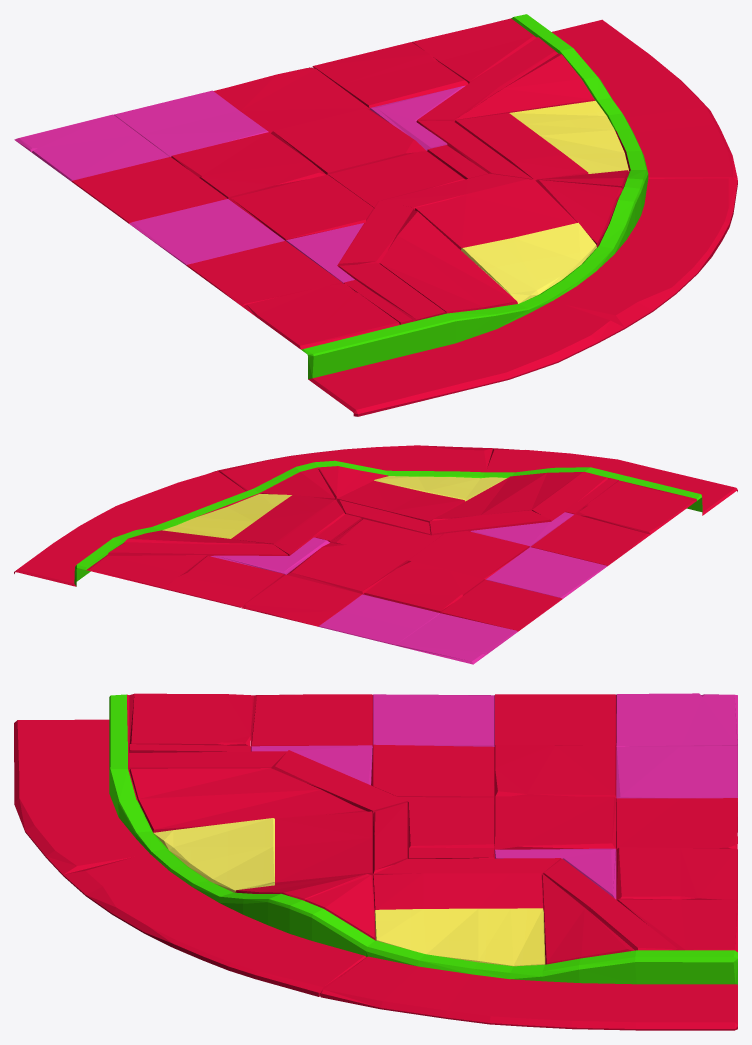
File: Sidewalk08.fbx
3 views of the same model, one above another, from view 1: azimuth 30°, elevation 25°; view 2: azimuth 150°, elevation 25°; view 3: azimuth 270°, elevation 25° (orthographic). The views are drawn at different scales.
Visible parts, largest first — view 1: SM_Sidewalk_02b.mo; view 2: SM_Sidewalk_02b.mo; view 3: SM_Sidewalk_02b.mo.
Part boxes in pixels (x1,y1,x2,y2): SM_Sidewalk_02b.mo: (14, 14, 737, 416); SM_Sidewalk_02b.mo: (14, 445, 737, 664); SM_Sidewalk_02b.mo: (14, 693, 737, 1030).
Size of the model in its own units: 595 by 30.98 by 595.
